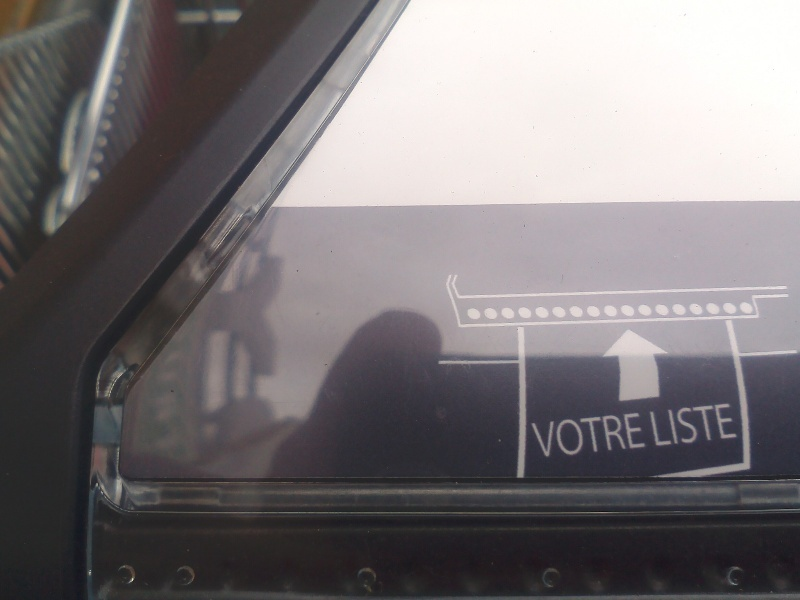text: (529, 411, 544, 458), (545, 411, 560, 458), (561, 411, 576, 458), (577, 411, 592, 458), (593, 411, 608, 458), (609, 411, 624, 458), (625, 411, 640, 458), (657, 404, 672, 447), (673, 404, 688, 447), (689, 404, 704, 447), (705, 404, 720, 447), (721, 404, 736, 447), (641, 411, 647, 458), (650, 404, 656, 447), (737, 404, 738, 447)
